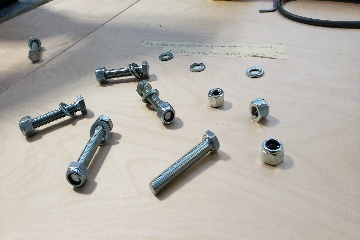Bolt: (146, 128, 224, 195)
FalseAssembly: (62, 115, 115, 193), (15, 91, 90, 139), (23, 33, 44, 64)
FinishedAssembly: (134, 80, 178, 125), (93, 58, 152, 83)
Nut: (259, 135, 287, 170), (248, 98, 271, 125), (205, 87, 227, 109)
Washer: (245, 65, 265, 78), (188, 62, 207, 75), (158, 51, 174, 61)
